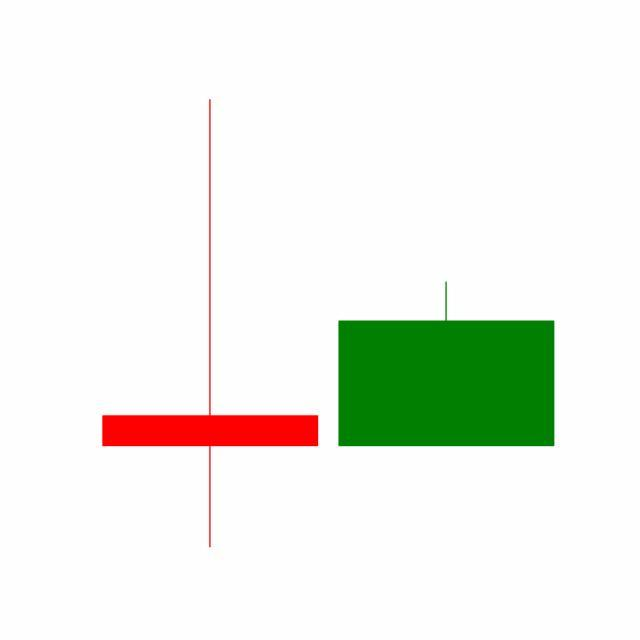Marubozu: (328, 280, 566, 449)
